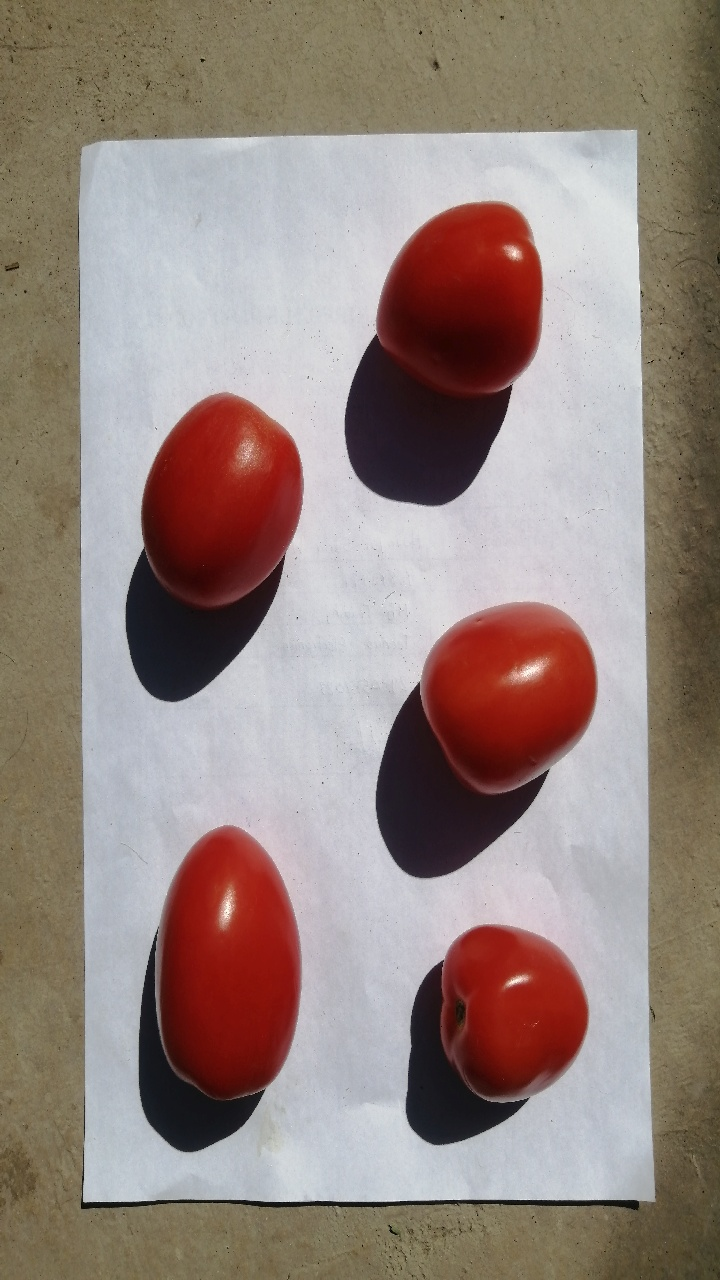tomateRojo: (132, 805, 332, 1134), (343, 174, 566, 422), (115, 366, 320, 635), (401, 595, 620, 805), (411, 903, 604, 1126)
